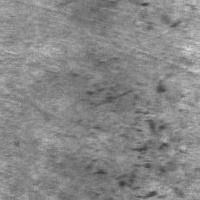rolled-in_scale: (84, 75, 193, 200), (131, 2, 200, 33)
